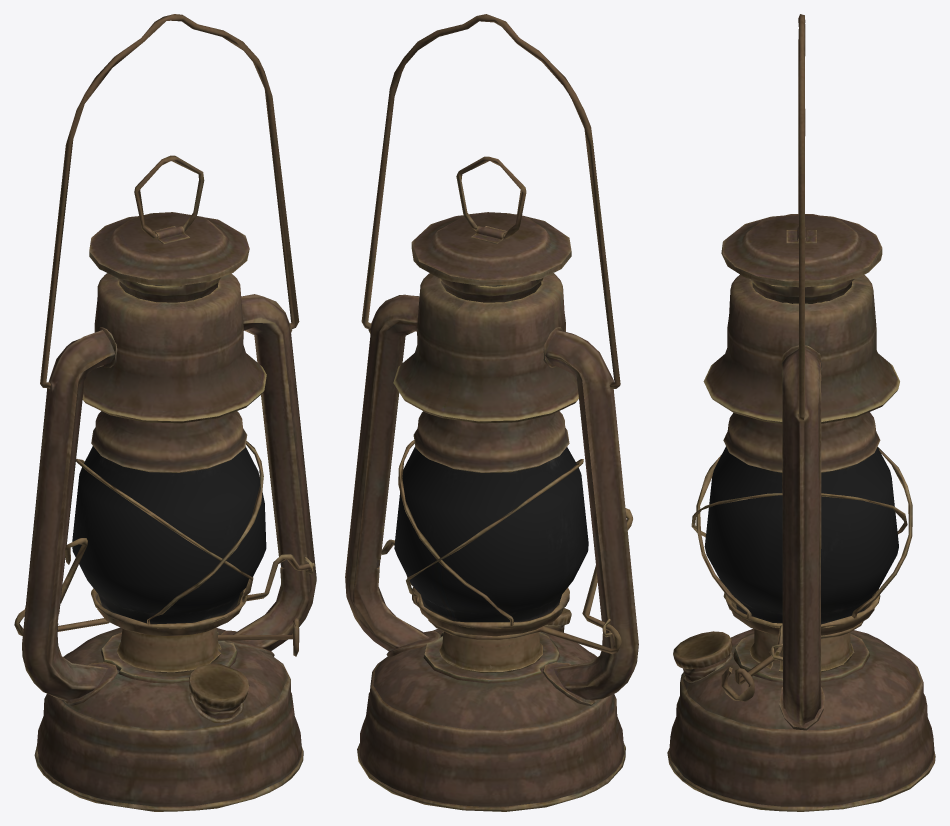
File: ph_lantern.glb
3 renders of one model, left to right at view 1: azimuth 30°, elevation 25°; view 2: azimuth 150°, elevation 25°; view 3: azimuth 270°, elevation 25°, orthographic.
Visible parts, largest first — view 1: Lantern_01, Lantern_01_glass; view 2: Lantern_01, Lantern_01_glass; view 3: Lantern_01, Lantern_01_glass.
Boxes of the visible parts, x1,y1,x2,y2 form: Lantern_01: [14, 14, 316, 811]; Lantern_01_glass: [72, 446, 266, 624]; Lantern_01: [345, 14, 638, 811]; Lantern_01_glass: [394, 446, 588, 622]; Lantern_01: [667, 14, 935, 811]; Lantern_01_glass: [704, 446, 898, 624].
Size of the model in its own units: 0.1219 by 0.2939 by 0.0967.
Materials: 2 (2 with a texture image).
